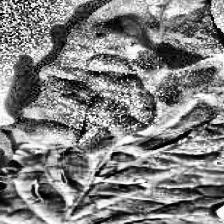Angular Leafspot: (129, 15, 224, 102), (101, 124, 188, 172), (0, 139, 40, 197), (31, 73, 89, 110)
